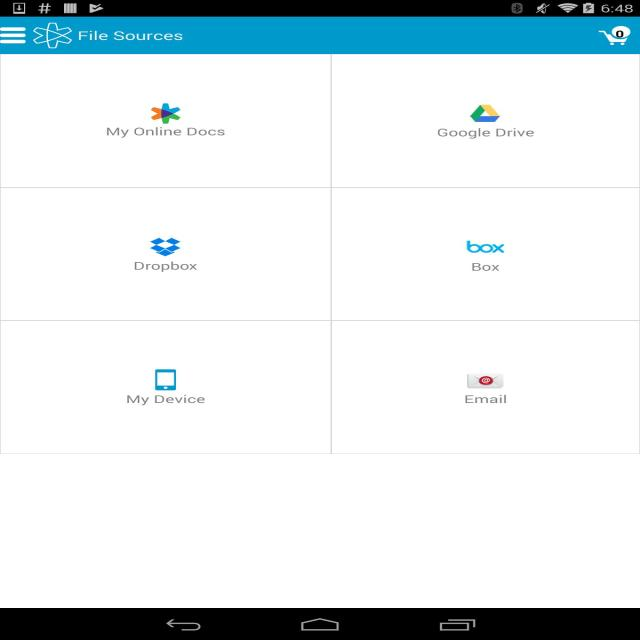button: (0, 54, 332, 188), (2, 188, 330, 321), (1, 321, 331, 452), (332, 53, 640, 187), (334, 187, 638, 320), (334, 321, 636, 453), (599, 24, 635, 50), (0, 25, 26, 46)
heading: (77, 27, 186, 46)
image: (143, 232, 187, 258), (32, 22, 72, 50), (459, 370, 510, 391), (460, 236, 511, 256), (143, 101, 186, 124), (149, 364, 181, 392), (464, 102, 504, 124)
text: (98, 123, 230, 140), (434, 123, 536, 141), (126, 390, 206, 408), (130, 256, 200, 272), (458, 392, 512, 406), (464, 258, 504, 274)
